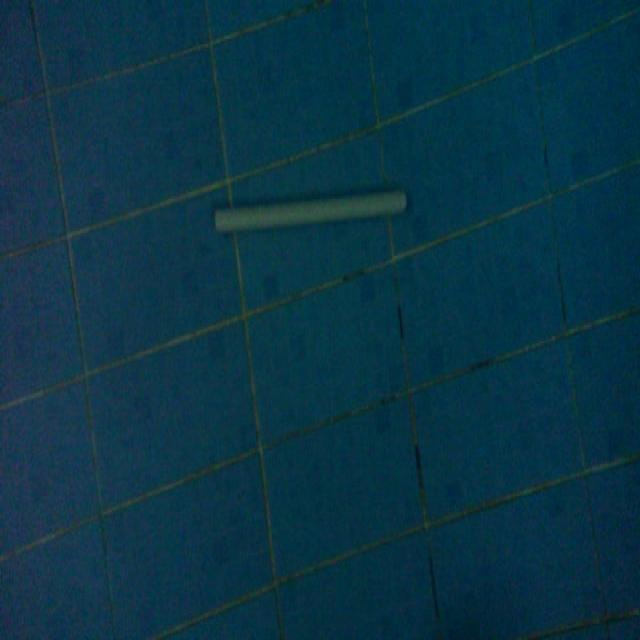Cube: (212, 183, 408, 237)
